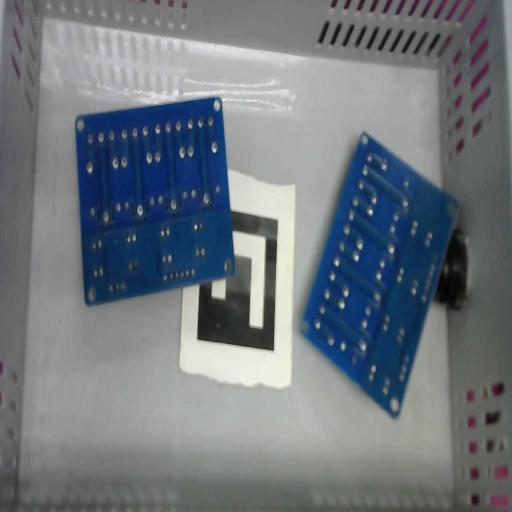QR: (178, 168, 296, 390)
relay_module: (300, 131, 460, 419), (74, 95, 236, 306)
